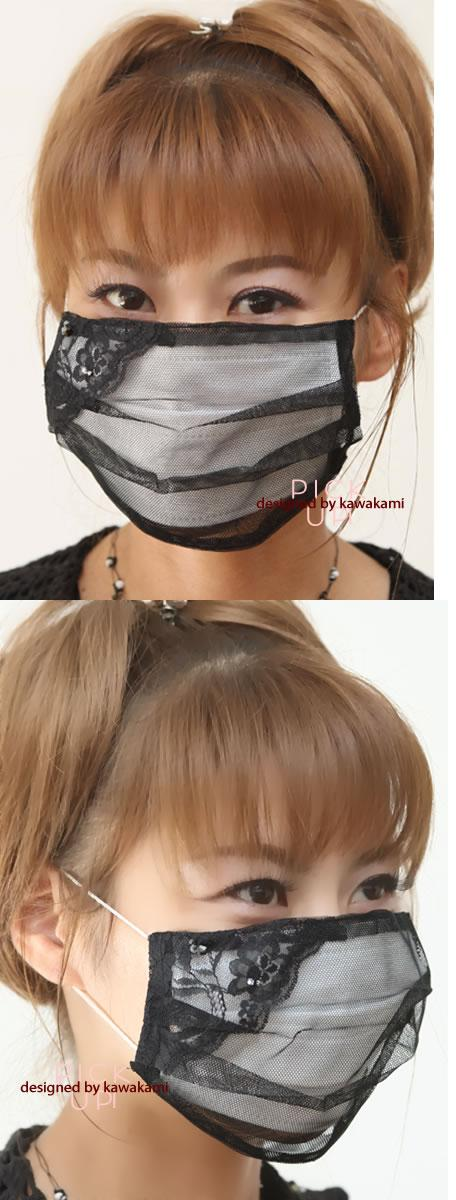OK: (126, 824, 419, 1149), (52, 242, 353, 543)
